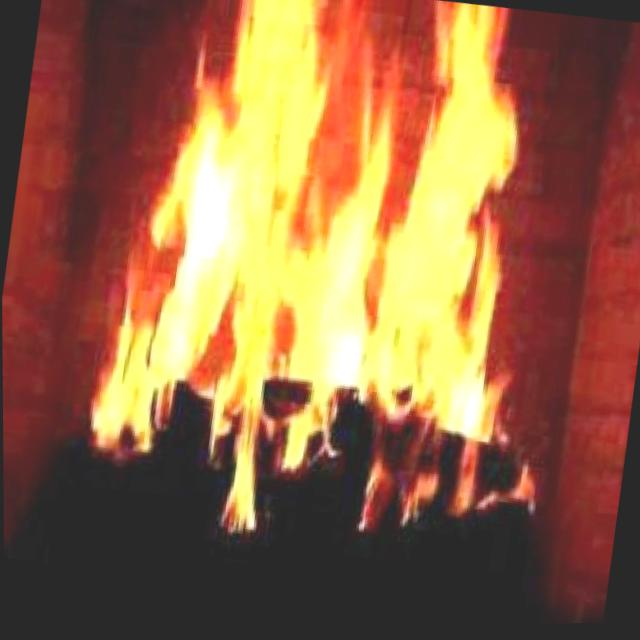helmet: (63, 0, 610, 583)
